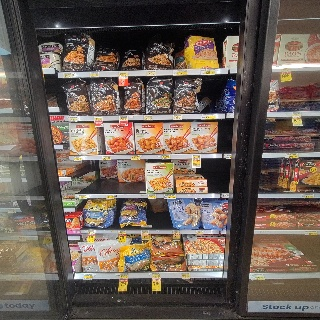All PRICE TAGS: (250, 273, 264, 280), (62, 72, 76, 78), (201, 69, 215, 75), (201, 114, 216, 119), (173, 70, 188, 75), (285, 153, 298, 158), (146, 70, 156, 76), (165, 194, 176, 199), (301, 194, 314, 198), (119, 273, 129, 278), (118, 72, 128, 77), (305, 231, 317, 235), (173, 114, 182, 119), (292, 112, 301, 117), (90, 72, 99, 77), (144, 115, 153, 120), (76, 194, 87, 198), (150, 273, 160, 277), (181, 272, 189, 277), (83, 274, 93, 278), (192, 154, 200, 159), (107, 194, 116, 198), (161, 155, 170, 159), (131, 155, 140, 159), (102, 155, 111, 159), (94, 116, 103, 120), (119, 116, 128, 120), (280, 69, 291, 72), (141, 230, 149, 234), (148, 194, 156, 198), (69, 117, 79, 120), (117, 230, 126, 233), (73, 156, 82, 159), (87, 230, 95, 233), (196, 231, 203, 234), (173, 230, 180, 233)
